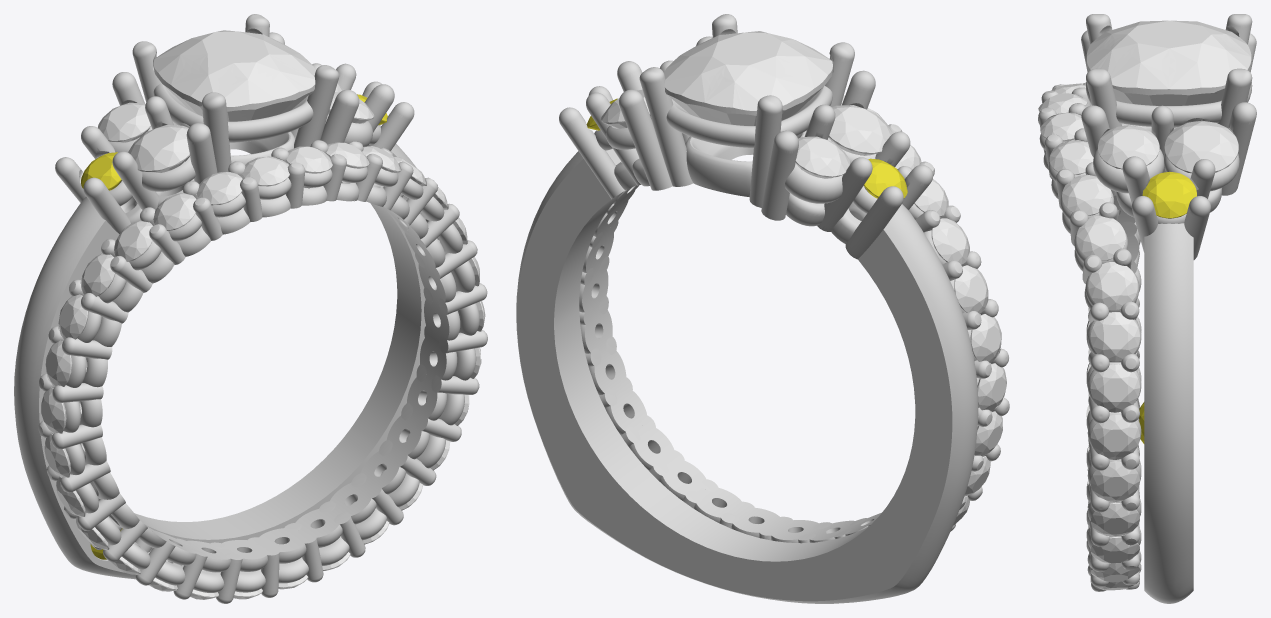
The model's file is MarcPTcurveeternity.glb.
3 views of the same model, side by side, from view 1: azimuth 30°, elevation 25°; view 2: azimuth 150°, elevation 25°; view 3: azimuth 270°, elevation 25° (orthographic). The views are drawn at different scales.
Parts seen in each view (by area): view 1: Sarah PT for 3d model, Sarah dia for 3d model.033, Sarah dia for 3d model.031, Sarah dia for 3d model.032, Sarah dia for 3d model.012, Sarah dia for 3d model.013, Sarah dia for 3d model.011, Sarah dia for 3d model.014, Sarah dia for 3d model.010, Sarah dia for 3d model.009, Sarah dia for 3d model.008, Sarah dia for 3d model.015 (+4 smaller); view 2: Sarah PT for 3d model, Sarah dia for 3d model.033, Sarah dia for 3d model.031, Sarah dia for 3d model.032, Sarah dia for 3d model.010, Sarah dia for 3d model.009, Sarah dia for 3d model.008, Sarah yellow dia for 3d model, Sarah dia for 3d model.007, Sarah dia for 3d model.006, Sarah dia for 3d model.011; view 3: Sarah PT for 3d model, Sarah dia for 3d model.033, Sarah dia for 3d model.034, Sarah dia for 3d model.035, Sarah dia for 3d model.020, Sarah yellow dia for 3d model.001, Sarah dia for 3d model.019, Sarah dia for 3d model.021, Sarah dia for 3d model.022, Sarah dia for 3d model.018, Sarah dia for 3d model.023, Sarah dia for 3d model.017 (+6 smaller).
Boxes of the visible parts, x1=… form: Sarah PT for 3d model: x1=14, y1=14, x2=487, y2=603; Sarah dia for 3d model.033: x1=153, y1=30, x2=315, y2=121; Sarah dia for 3d model.031: x1=128, y1=125, x2=190, y2=172; Sarah dia for 3d model.032: x1=98, y1=102, x2=150, y2=142; Sarah dia for 3d model.012: x1=153, y1=193, x2=196, y2=230; Sarah dia for 3d model.013: x1=196, y1=172, x2=242, y2=205; Sarah dia for 3d model.011: x1=114, y1=220, x2=152, y2=261; Sarah dia for 3d model.014: x1=242, y1=156, x2=289, y2=186; Sarah dia for 3d model.010: x1=81, y1=253, x2=115, y2=296; Sarah dia for 3d model.009: x1=58, y1=294, x2=88, y2=339; Sarah dia for 3d model.008: x1=45, y1=340, x2=72, y2=387; Sarah dia for 3d model.015: x1=286, y1=146, x2=332, y2=173; Sarah PT for 3d model: x1=516, y1=14, x2=1009, y2=603; Sarah dia for 3d model.033: x1=664, y1=31, x2=832, y2=125; Sarah dia for 3d model.031: x1=829, y1=105, x2=892, y2=154; Sarah dia for 3d model.032: x1=795, y1=136, x2=849, y2=178; Sarah dia for 3d model.010: x1=931, y1=218, x2=969, y2=264; Sarah dia for 3d model.009: x1=954, y1=265, x2=988, y2=313; Sarah dia for 3d model.008: x1=970, y1=314, x2=1001, y2=362; Sarah yellow dia for 3d model: x1=864, y1=158, x2=907, y2=198; Sarah dia for 3d model.007: x1=977, y1=363, x2=1006, y2=411; Sarah dia for 3d model.006: x1=974, y1=411, x2=1002, y2=456; Sarah dia for 3d model.011: x1=914, y1=179, x2=948, y2=216; Sarah PT for 3d model: x1=1038, y1=14, x2=1256, y2=603; Sarah dia for 3d model.033: x1=1086, y1=20, x2=1251, y2=127; Sarah dia for 3d model.034: x1=1164, y1=120, x2=1238, y2=173; Sarah dia for 3d model.035: x1=1098, y1=125, x2=1159, y2=169; Sarah dia for 3d model.020: x1=1090, y1=312, x2=1139, y2=361; Sarah yellow dia for 3d model.001: x1=1142, y1=171, x2=1196, y2=218; Sarah dia for 3d model.019: x1=1088, y1=262, x2=1137, y2=310; Sarah dia for 3d model.021: x1=1090, y1=364, x2=1139, y2=412; Sarah dia for 3d model.022: x1=1090, y1=414, x2=1139, y2=459; Sarah dia for 3d model.018: x1=1076, y1=215, x2=1125, y2=260; Sarah dia for 3d model.023: x1=1090, y1=461, x2=1139, y2=501; Sarah dia for 3d model.017: x1=1062, y1=174, x2=1111, y2=215.
Size of the model in its own units: 20.7 by 23.84 by 8.87.
